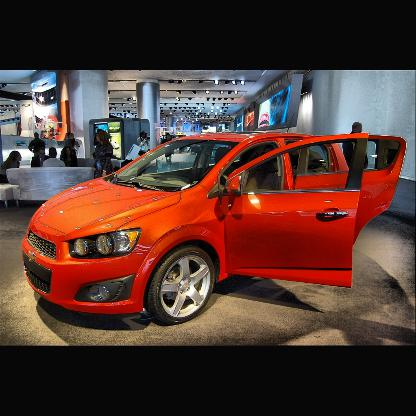Chevrolet Sonic Sedan 2012: (20, 131, 410, 328)
